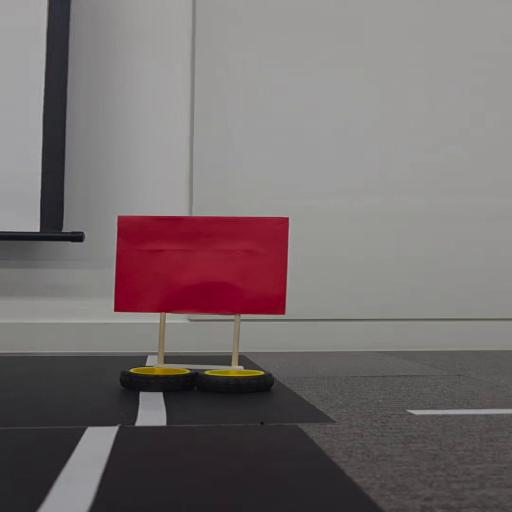Sign_A: (103, 206, 300, 404)
